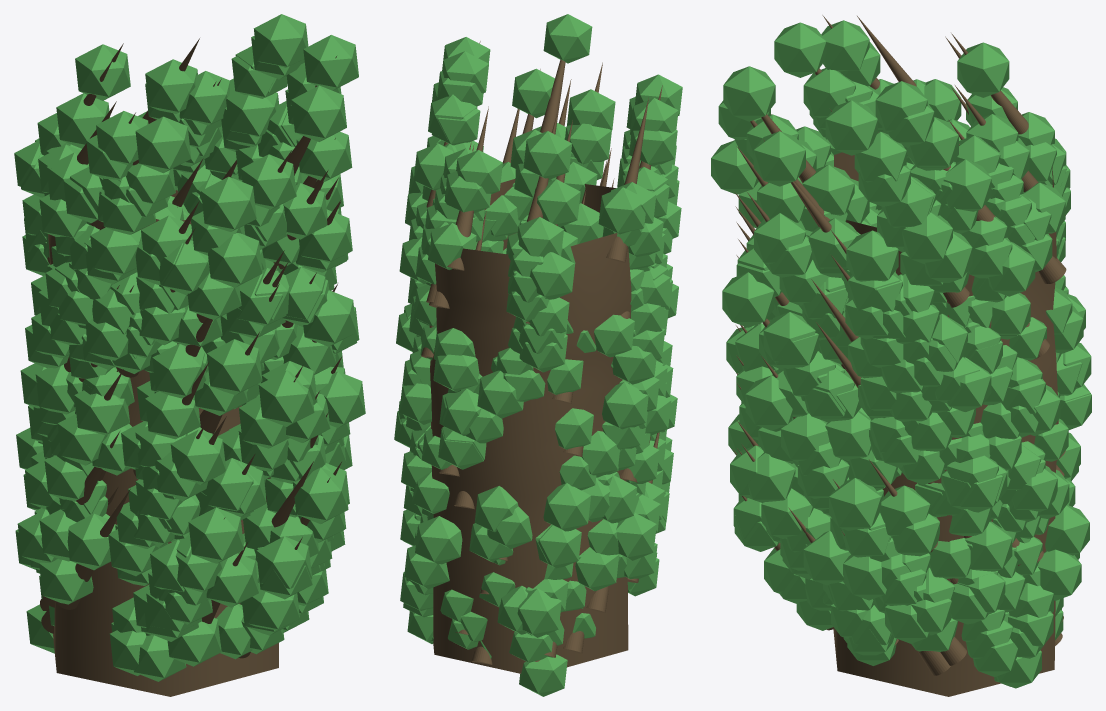
Rendered from tree_var_5817.glb.
The picture shows the model from 3 angles, left to right: view 1: azimuth 30°, elevation 25°; view 2: azimuth 150°, elevation 25°; view 3: azimuth 270°, elevation 25°; orthographic projection. The views are drawn at different scales.
Visible parts, largest first — view 1: tree_var_5817; view 2: tree_var_5817; view 3: tree_var_5817.
Part boxes in pixels (x1,y1,x2,y2): tree_var_5817: (14, 14, 365, 696); tree_var_5817: (394, 14, 682, 696); tree_var_5817: (711, 15, 1091, 696).
Size of the model in its own units: 2.58 by 5.59 by 3.03.
